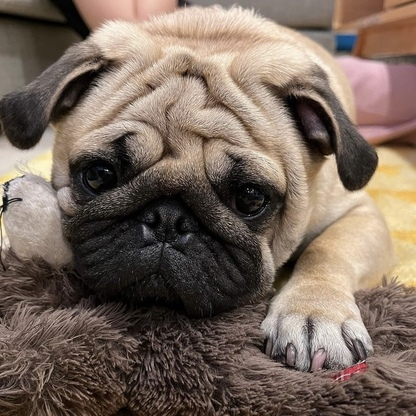Pug: (1, 2, 398, 376)
